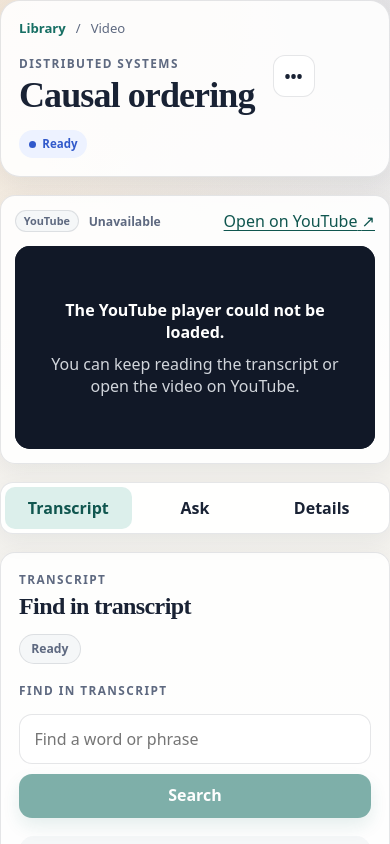
Scenario: Study YouTube player and transcript seek › keeps transcript and Study tabs usable after a provider error
Expected: the message that starts with "The YouTube player could not be loaded." is shown, [65,299,325,343]
Click the tab "Details": point(322, 508) [258,487,385,529]
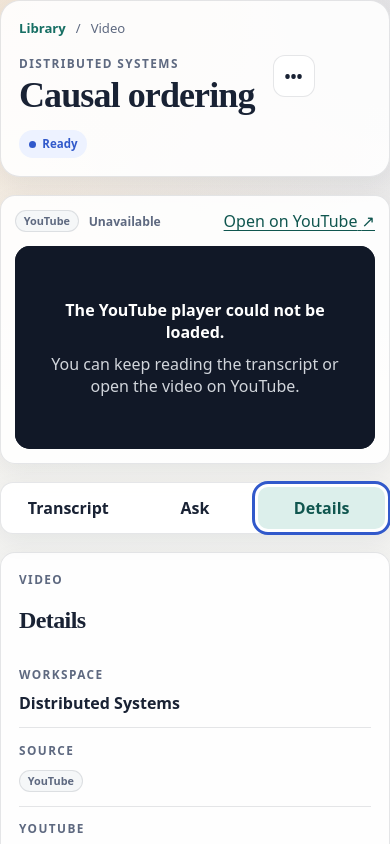
Expected: the heading "Details" is shown, [19,607,86,634]
